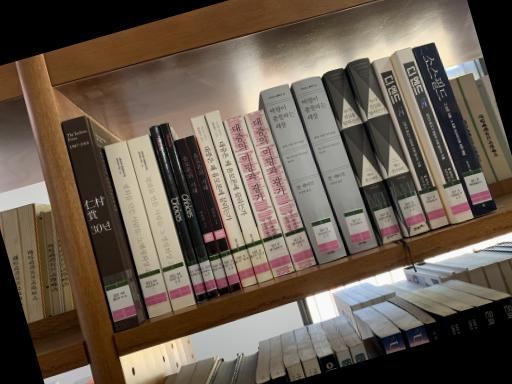book-spine: (61, 115, 140, 332), (260, 84, 348, 264), (292, 76, 378, 254), (348, 58, 431, 237), (414, 42, 498, 217), (324, 68, 404, 244), (397, 47, 474, 223), (374, 56, 449, 228), (127, 134, 196, 311), (104, 141, 172, 318), (205, 110, 273, 283), (244, 109, 317, 270), (190, 115, 258, 287), (224, 115, 295, 277), (160, 122, 219, 299), (150, 125, 208, 302), (185, 135, 242, 292), (175, 138, 230, 295)
